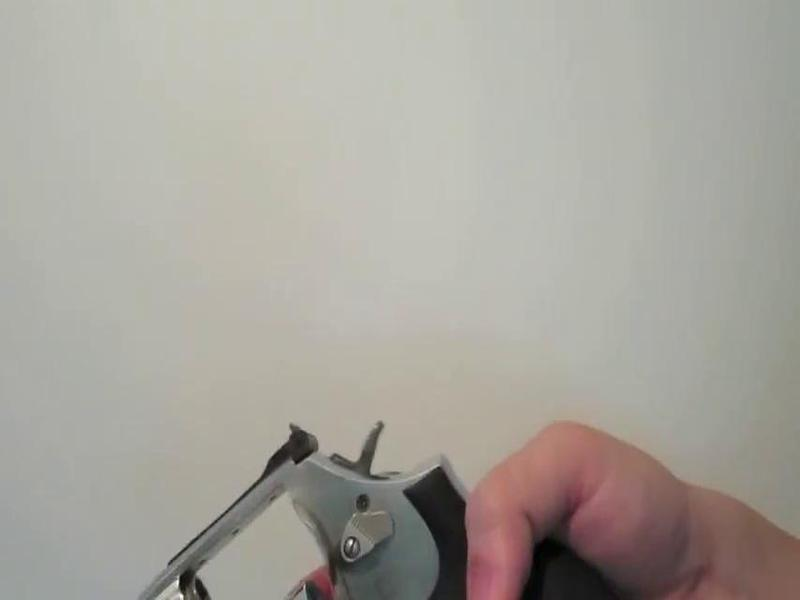Revolver: (93, 385, 665, 600)
